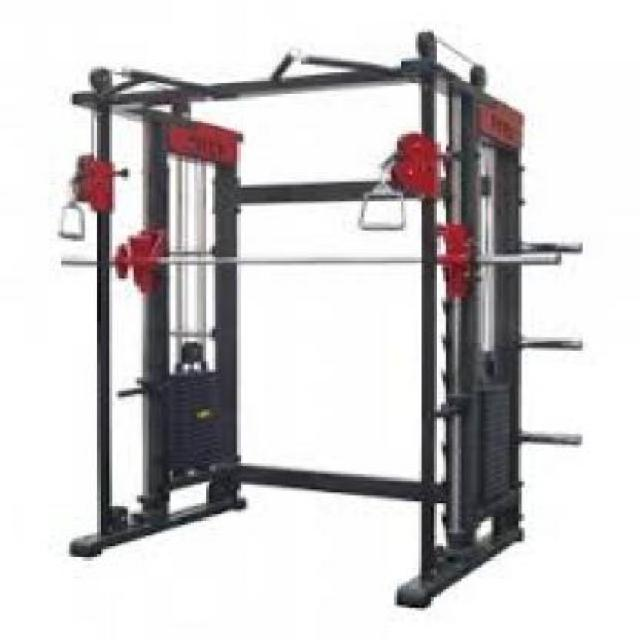smith machine: (62, 26, 583, 609)
